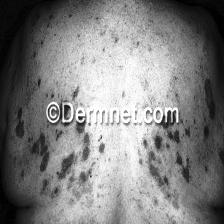Non-Cancerous Skin Condition: (20, 122, 107, 205), (90, 10, 159, 93), (136, 130, 197, 210), (200, 70, 224, 134), (218, 134, 224, 178)
